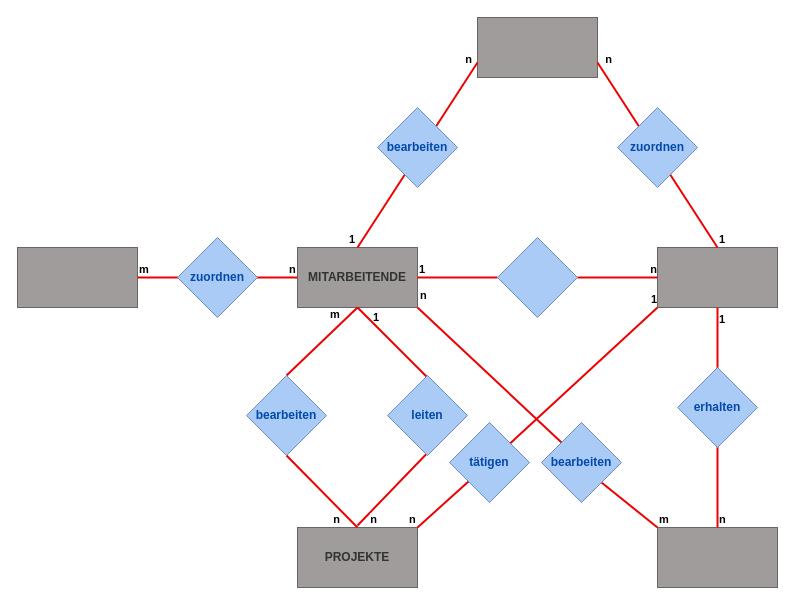
The diagram is 795 pixels wide and 605 high, and some of its shapes have lost their labels. The centre of each missing label's shape, as x and y in pixels:
erfassen: [537,277]
KUNDEN: [717,277]
ROLLE: [77,277]
SERVICE- VERTRÄGE: [717,557]
SUPPORT- TICKETS: [537,47]
